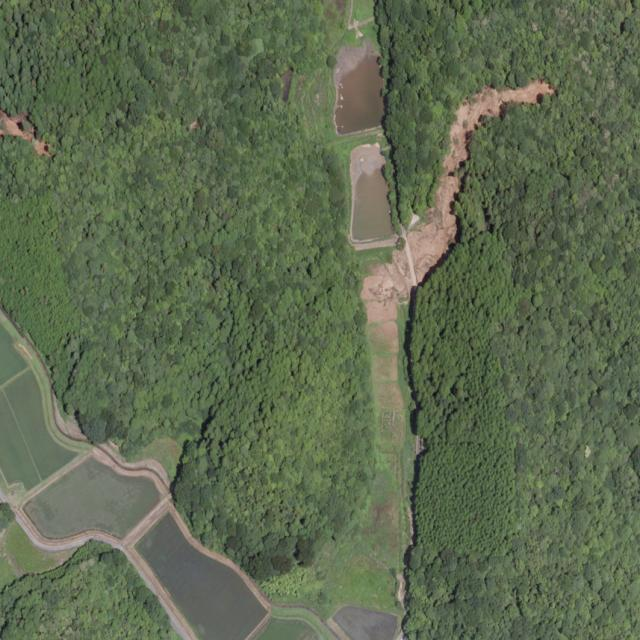landslide: (409, 80, 555, 282), (362, 250, 412, 306)
